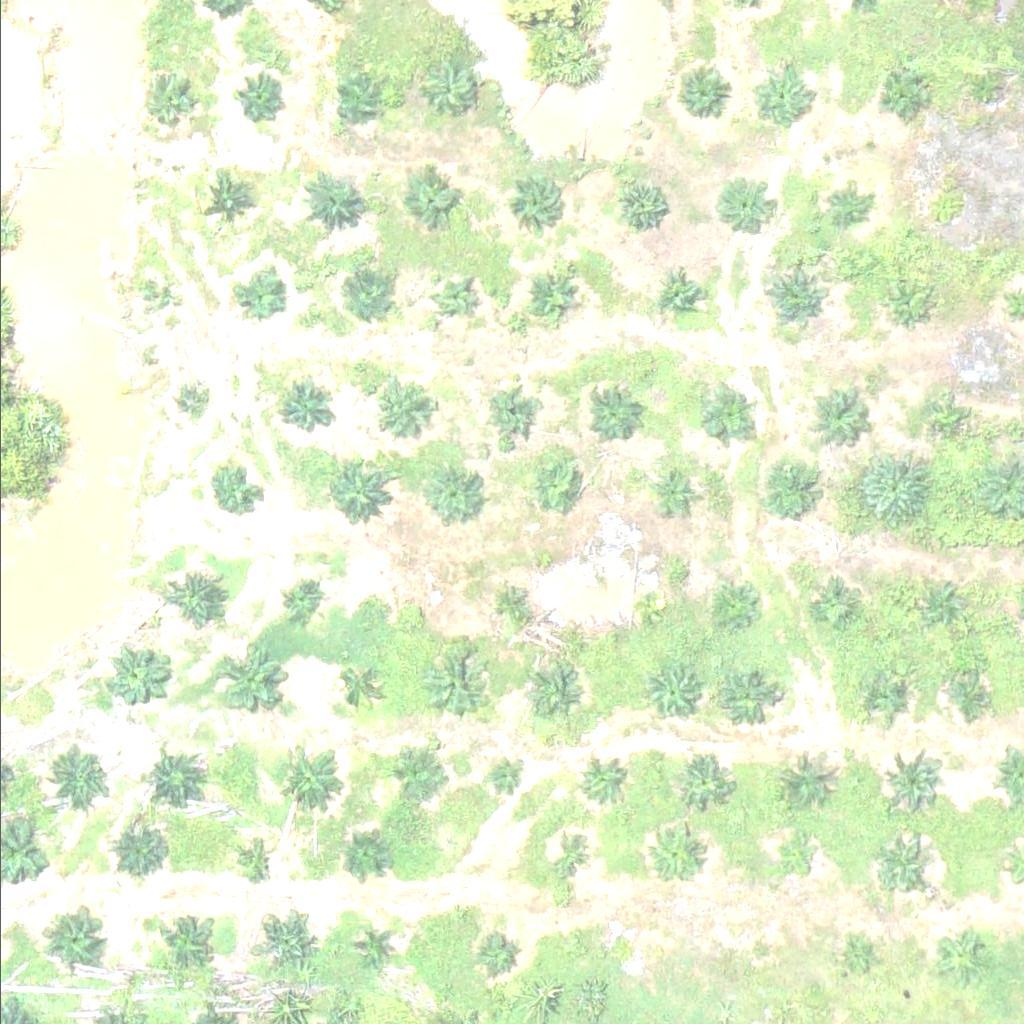Kelapa_Sawit: (752, 453, 828, 528), (426, 648, 502, 723), (856, 453, 932, 528), (260, 908, 323, 971), (219, 645, 282, 708), (810, 382, 873, 445), (928, 924, 991, 987), (714, 667, 777, 730), (296, 170, 359, 233), (764, 267, 827, 330), (42, 742, 105, 805), (110, 641, 173, 704), (41, 909, 104, 972), (278, 744, 341, 806), (330, 461, 393, 523), (367, 379, 430, 441), (522, 659, 585, 721), (770, 747, 833, 809), (869, 834, 932, 896), (886, 750, 949, 812), (420, 458, 483, 520), (667, 61, 730, 123), (525, 265, 588, 327), (749, 65, 812, 127), (165, 564, 228, 626), (636, 664, 698, 726), (141, 749, 203, 811), (113, 816, 175, 878), (241, 268, 292, 318), (340, 272, 391, 322), (403, 170, 454, 220), (717, 181, 768, 231), (418, 64, 469, 114), (335, 75, 386, 125), (237, 75, 288, 125), (198, 175, 249, 225), (616, 178, 667, 228), (652, 269, 703, 319), (880, 71, 931, 121), (276, 383, 326, 433), (209, 464, 259, 514), (492, 390, 542, 440), (698, 393, 748, 443), (588, 389, 638, 439), (715, 579, 765, 629), (811, 578, 861, 628), (680, 760, 730, 810), (648, 830, 698, 880), (385, 743, 435, 793), (532, 456, 582, 506), (514, 175, 564, 225), (163, 913, 213, 963), (338, 829, 388, 879), (329, 660, 379, 710), (272, 575, 322, 625), (489, 583, 539, 633), (137, 77, 187, 127), (945, 672, 995, 722), (861, 674, 911, 724), (925, 580, 975, 630), (576, 755, 626, 805), (654, 471, 692, 509), (824, 184, 862, 222), (229, 845, 267, 883), (486, 758, 524, 796), (775, 835, 813, 873), (592, 933, 630, 971), (550, 839, 588, 877), (881, 289, 919, 326), (354, 924, 392, 961), (479, 938, 516, 976), (437, 278, 475, 315), (963, 73, 1001, 110), (839, 938, 876, 975), (929, 411, 955, 436), (181, 389, 206, 414), (639, 592, 664, 617), (404, 599, 429, 624), (147, 294, 172, 319)
